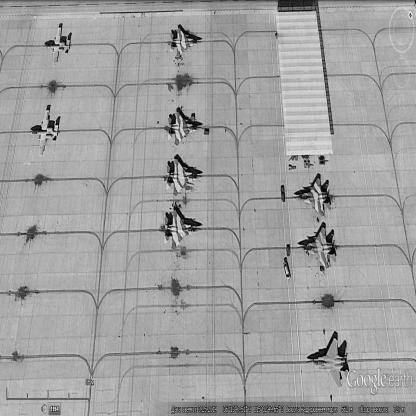A10: (30, 111, 59, 158), (43, 28, 71, 68)
F15: (307, 339, 351, 391), (298, 227, 338, 270), (164, 210, 202, 253), (295, 178, 332, 220), (167, 160, 203, 198), (168, 113, 203, 149), (171, 29, 202, 59)
